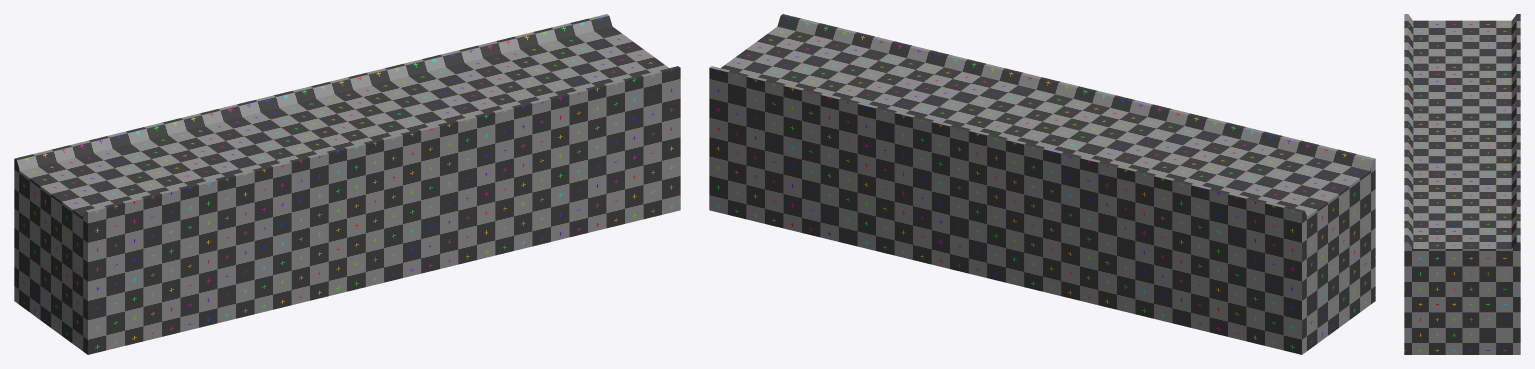
The model's file is conveyor_belt.glb.
The picture shows the model from 3 angles, left to right: view 1: azimuth 30°, elevation 25°; view 2: azimuth 150°, elevation 25°; view 3: azimuth 270°, elevation 25°; orthographic projection. The views are drawn at different scales.
Visible parts, largest first — view 1: Cube; view 2: Cube; view 3: Cube.
Boxes of the visible parts, <box> form: Cube: <box>14,14,680,354</box>; Cube: <box>709,14,1375,354</box>; Cube: <box>1404,14,1520,354</box>.
Bounding box in the file's own units: 13.78 × 3.17 × 2.96.
Materials: 1 (1 with a texture image).
